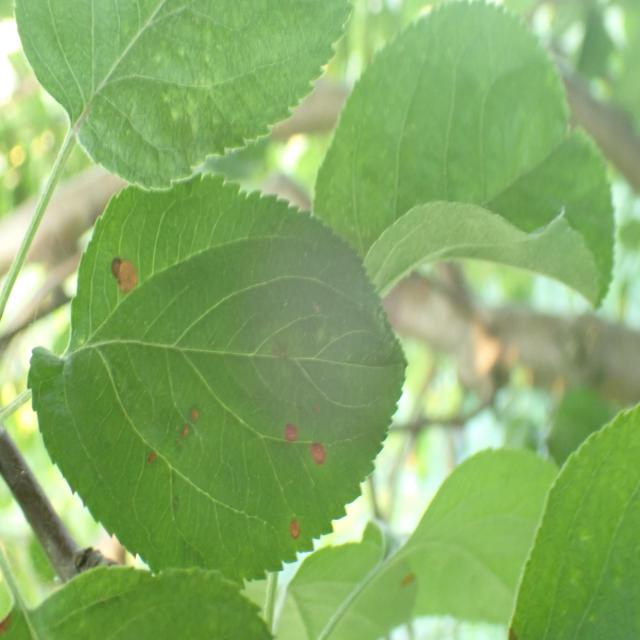Black Rot: (82, 232, 151, 311), (139, 434, 170, 502), (274, 399, 300, 465), (284, 506, 310, 558), (179, 400, 203, 454), (307, 432, 328, 480)
